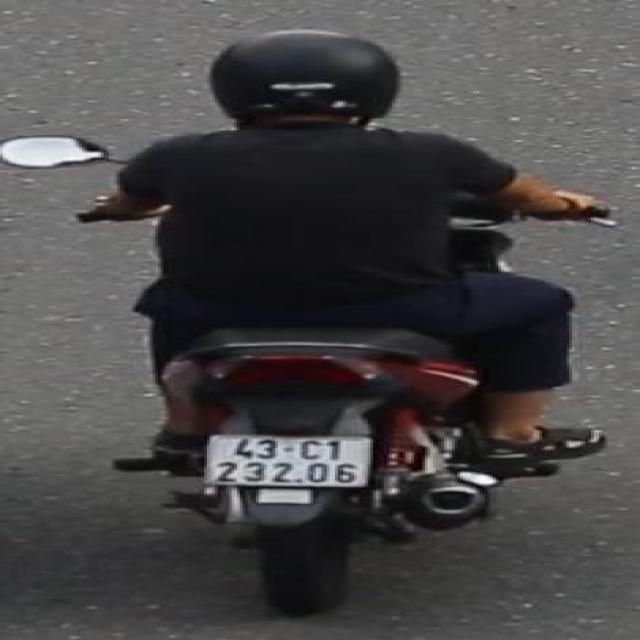LP: (200, 427, 383, 489)
helmet: (190, 23, 417, 136)
